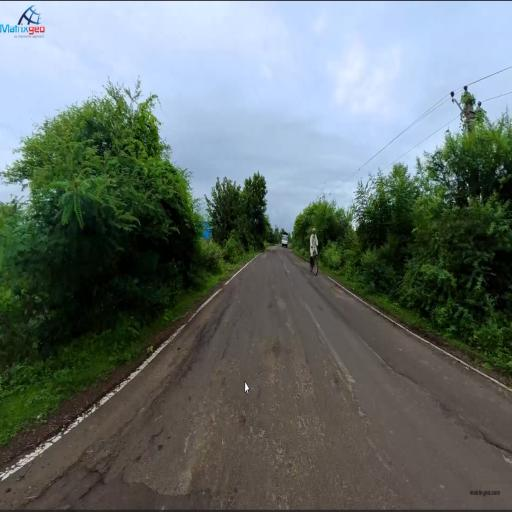ravelling: (90, 428, 236, 500)
